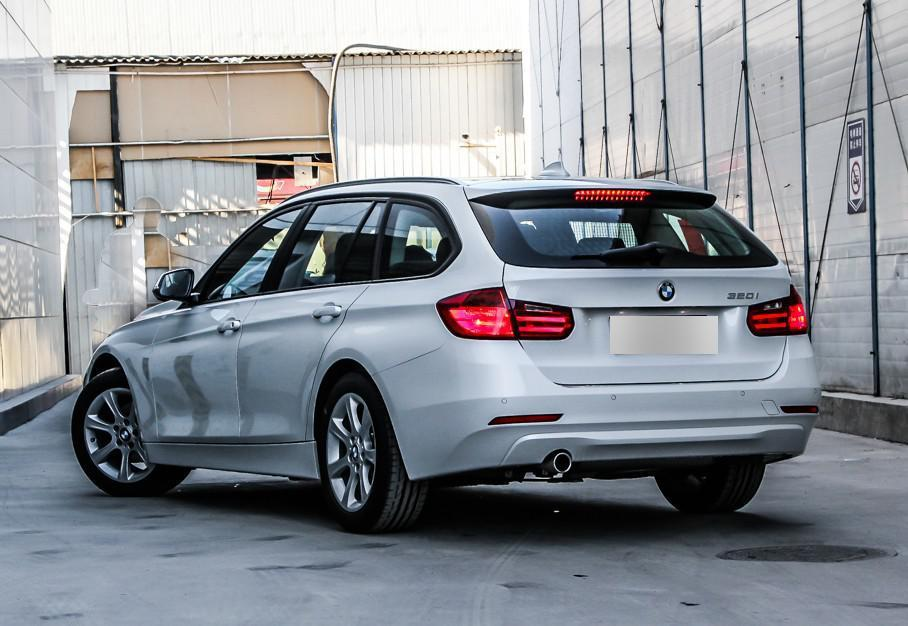Wagon: (71, 177, 819, 535)
